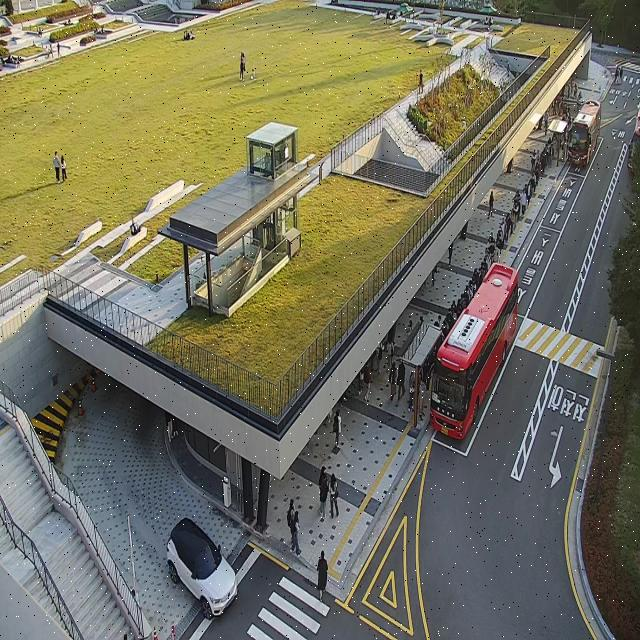queue: (417, 99, 573, 428)
